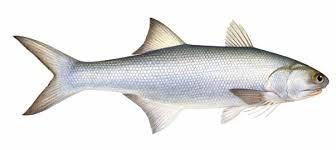Fourfinger Threadfish: (11, 17, 329, 135)
